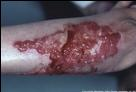NonPU: (11, 20, 122, 74)
